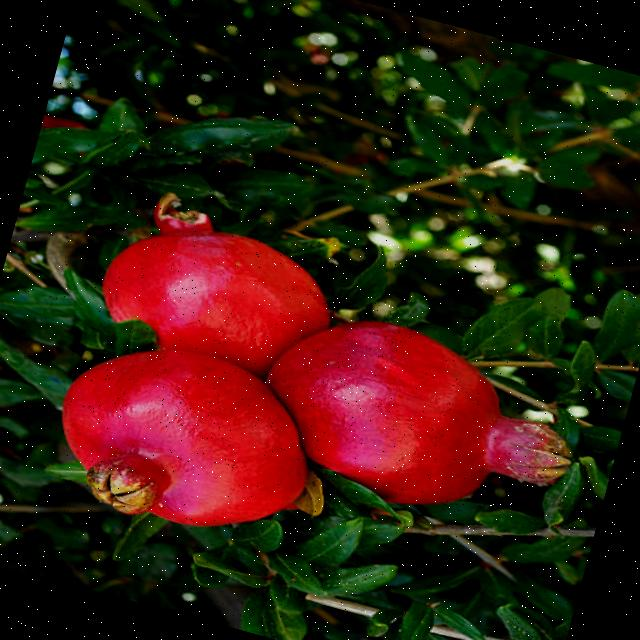Ripe: (244, 296, 597, 546), (34, 318, 330, 553), (84, 181, 346, 386)
